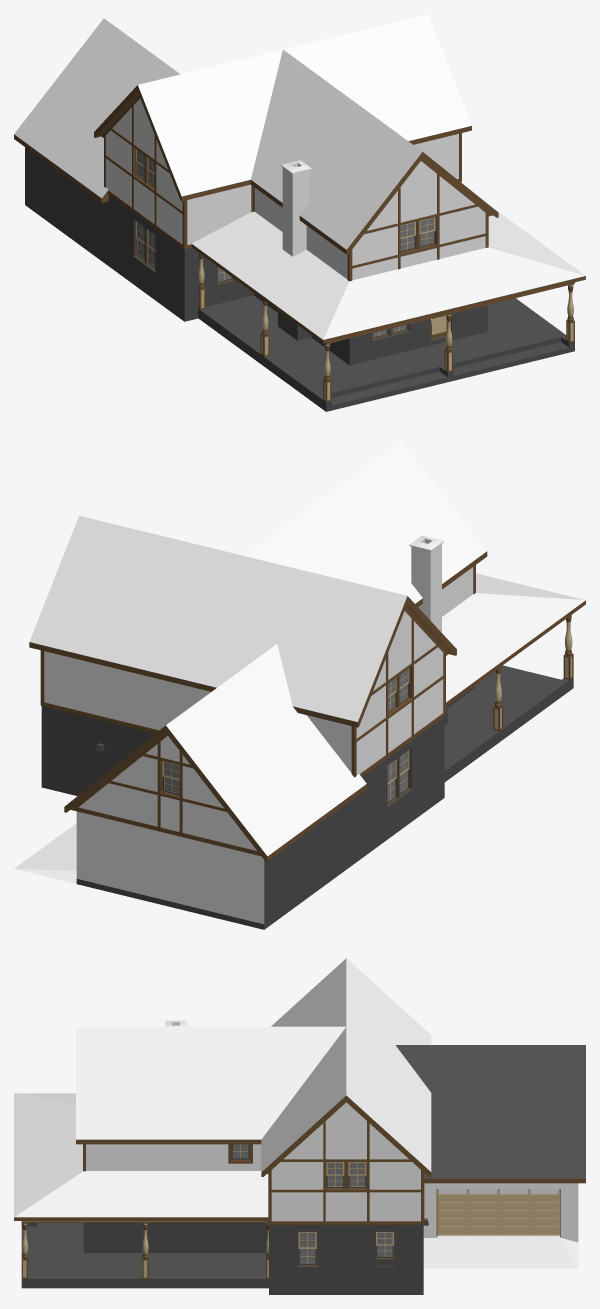
Rendered from Farm House.fbx.
3 views of the same model, one above another, from view 1: azimuth 30°, elevation 25°; view 2: azimuth 150°, elevation 25°; view 3: azimuth 270°, elevation 25° (orthographic). The views are drawn at different scales.
Visible parts, largest first — view 1: roof_001, 2nd floor_001, Layer0_001, Component#5_007; view 2: roof_001, Layer0_001, 2nd floor_001; view 3: roof_001, Layer0_001, 2nd floor_001, Component#3_011, Component#5_001, Component#5_005, Component#5_004.
Boxes of the visible parts, bbox=[...] form: roof_001: bbox=[14, 14, 498, 254]; 2nd floor_001: bbox=[104, 95, 585, 344]; Layer0_001: bbox=[25, 147, 574, 411]; Component#5_007: bbox=[419, 217, 436, 248]; roof_001: bbox=[29, 440, 487, 861]; Layer0_001: bbox=[14, 615, 573, 929]; 2nd floor_001: bbox=[40, 565, 585, 858]; roof_001: bbox=[76, 958, 585, 1183]; Layer0_001: bbox=[21, 1183, 578, 1294]; 2nd floor_001: bbox=[14, 1093, 424, 1224]; Component#3_011: bbox=[298, 1231, 317, 1266]; Component#5_001: bbox=[375, 1231, 394, 1259]; Component#5_005: bbox=[325, 1162, 344, 1189]; Component#5_004: bbox=[347, 1162, 366, 1189].
Bounding box in the file's own units: 12802 × 8822 × 22555.
